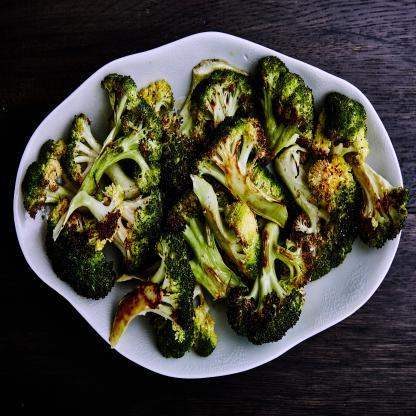broccoli: (17, 52, 412, 361)
